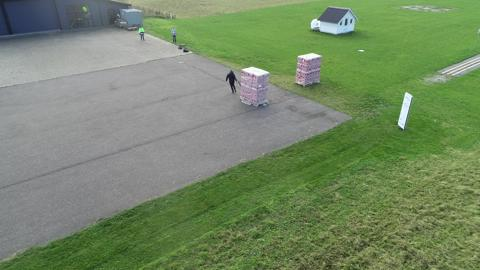RockwoolPallet: (240, 63, 268, 104)
